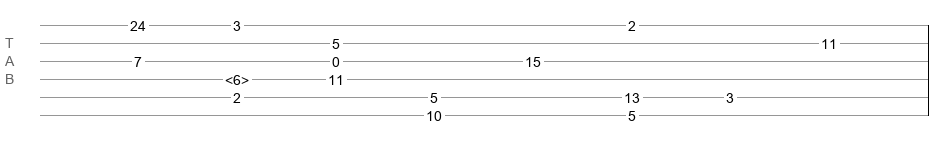0: (332, 54, 340, 64)
10: (426, 108, 442, 118)
11: (328, 72, 344, 82), (821, 36, 837, 46)
13: (624, 90, 640, 100)
15: (525, 54, 541, 64)
2: (233, 90, 241, 100), (628, 18, 636, 28)
24: (130, 18, 146, 28)
3: (233, 18, 241, 28), (726, 90, 734, 100)
5: (332, 36, 340, 46), (430, 90, 438, 100), (628, 108, 636, 118)
7: (134, 54, 142, 64)
harmonic: (225, 72, 249, 82)
